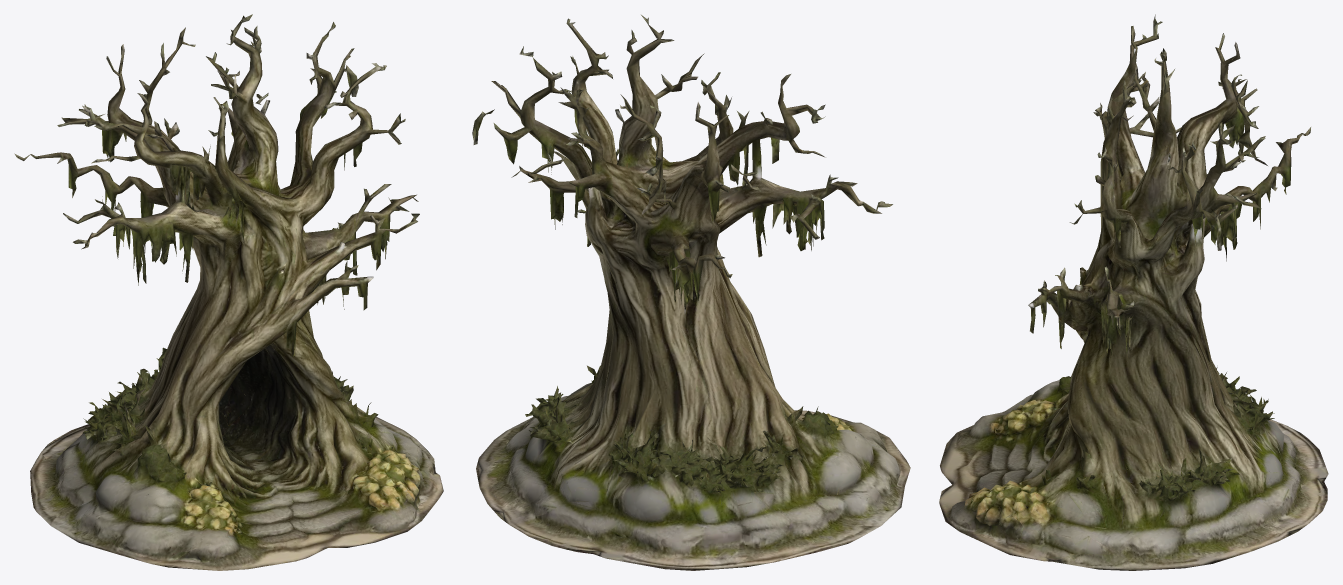
Rendered from tree-hollow.glb.
The picture shows the model from 3 angles, left to right: view 1: azimuth 30°, elevation 25°; view 2: azimuth 150°, elevation 25°; view 3: azimuth 270°, elevation 25°; orthographic projection. The views are drawn at different scales.
Visible parts, largest first — view 1: Mesh1.0; view 2: Mesh1.0; view 3: Mesh1.0.
Boxes of the visible parts, left/top/right/bottom form: Mesh1.0: left=14, top=14, right=443, bottom=570; Mesh1.0: left=472, top=15, right=910, bottom=570; Mesh1.0: left=939, top=14, right=1328, bottom=570.
Bounding box in the file's own units: 1.69 × 2 × 1.57.
1 material, 1 textured.
